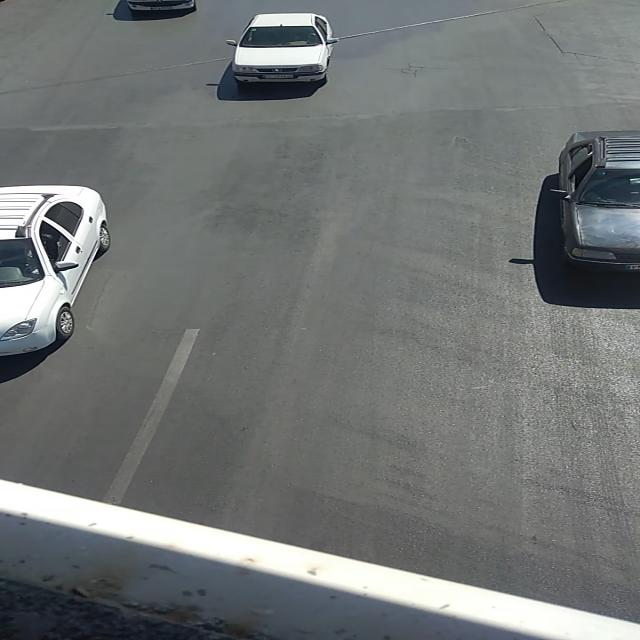car: (3, 184, 113, 357), (557, 131, 639, 271), (221, 14, 338, 82), (125, 0, 198, 14)
